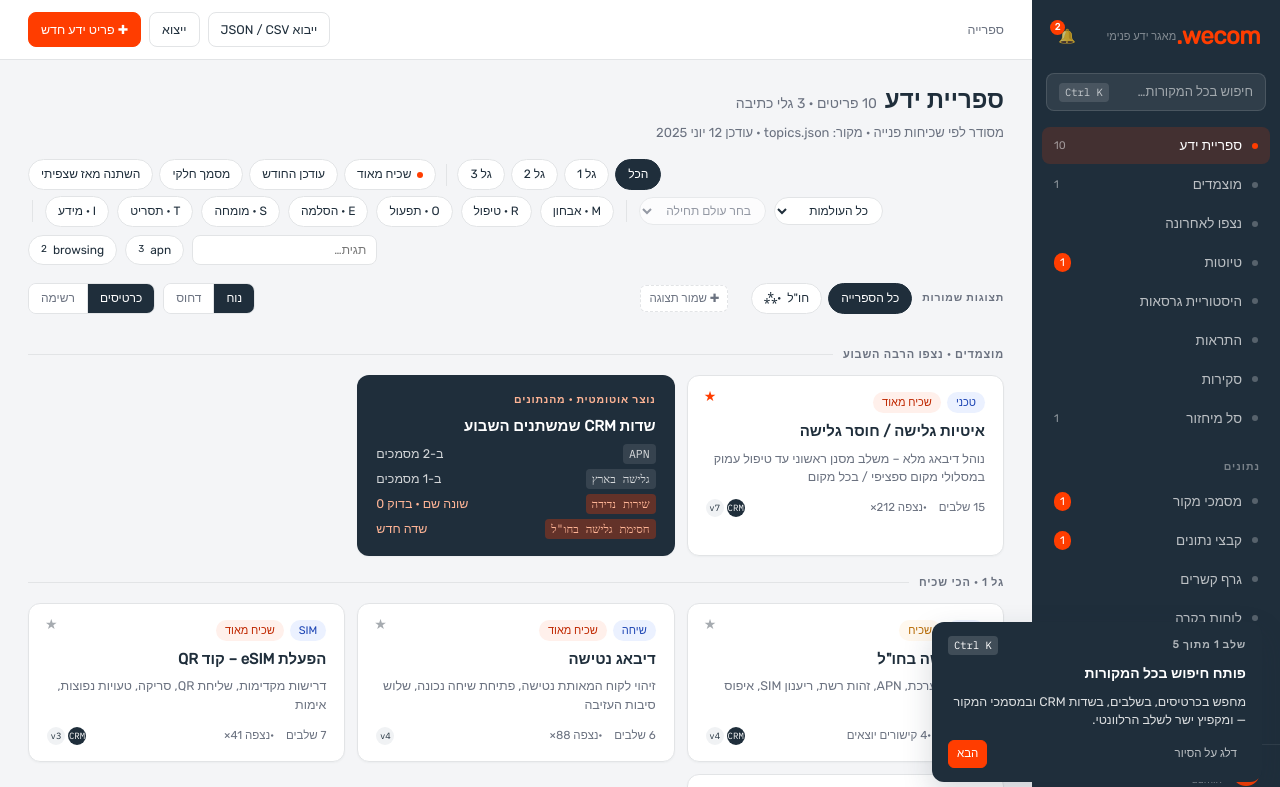
Test: palette actions for the connected-data screens › runs one of them
Type keys "{Control>}k{/Control}"
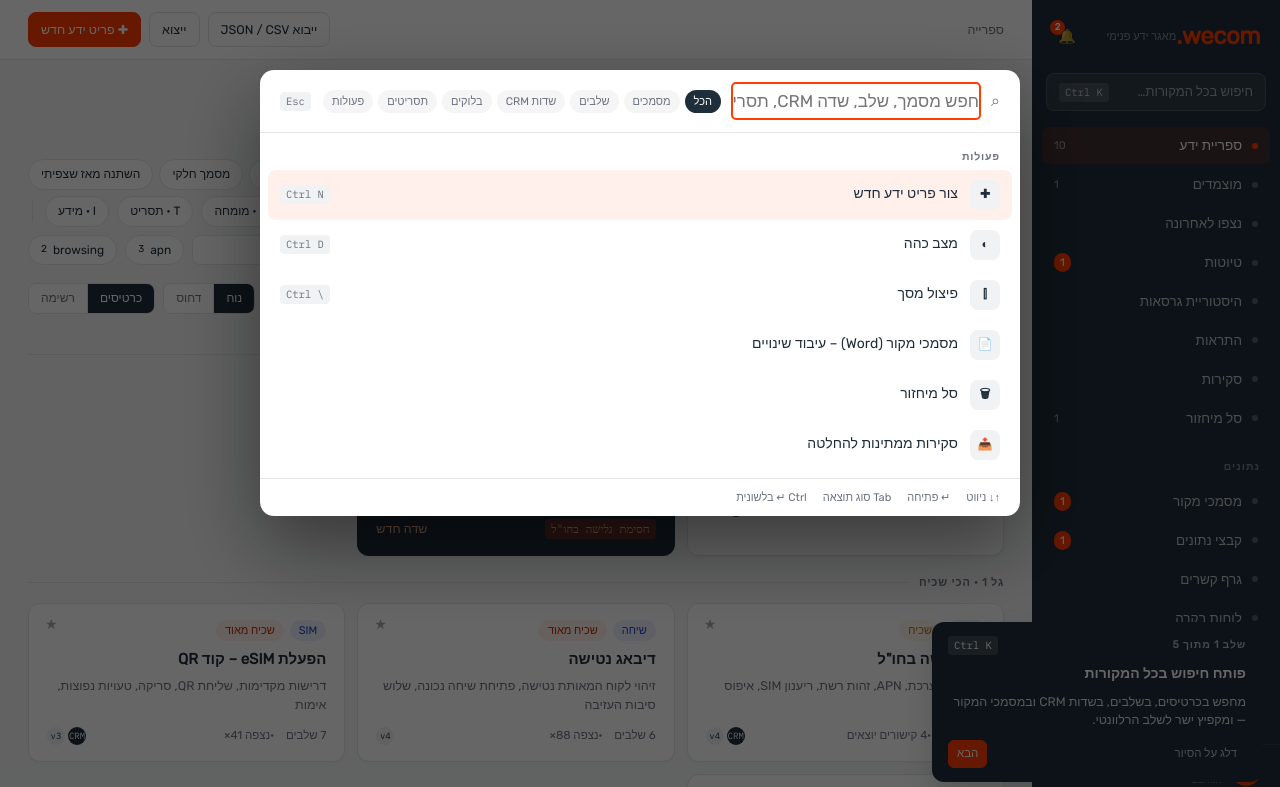
Type "לוחות" into the field with placeholder "חפש מסמך, שלב, שדה CRM, תסריט או פעולה…".
click(856, 101); type("לוחות")  # box [733,84,979,118]
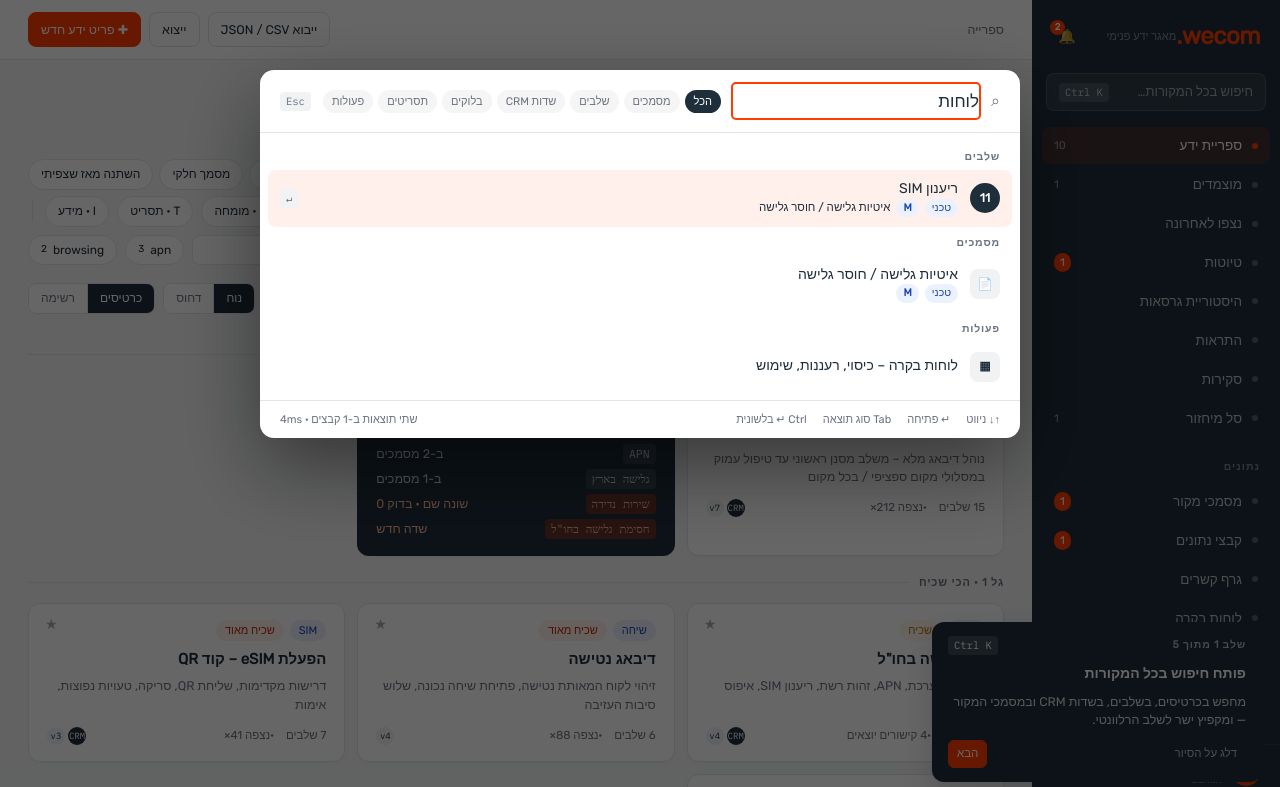
Click the text "לוחות בקרה – כיסוי, רעננות, שימוש".
click(857, 366)  # box [756,357,958,374]
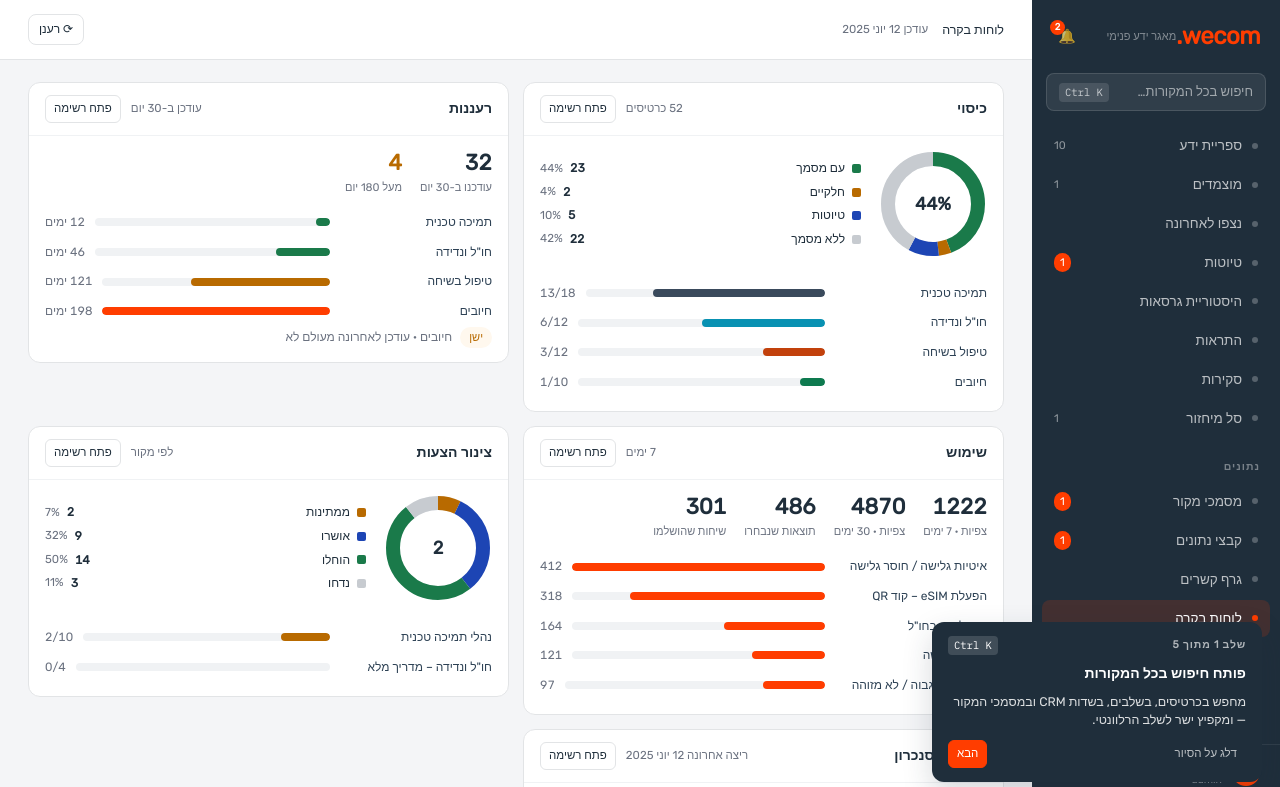
Now the text "צינור הצעות" is shown, box [417,442,492,464]
